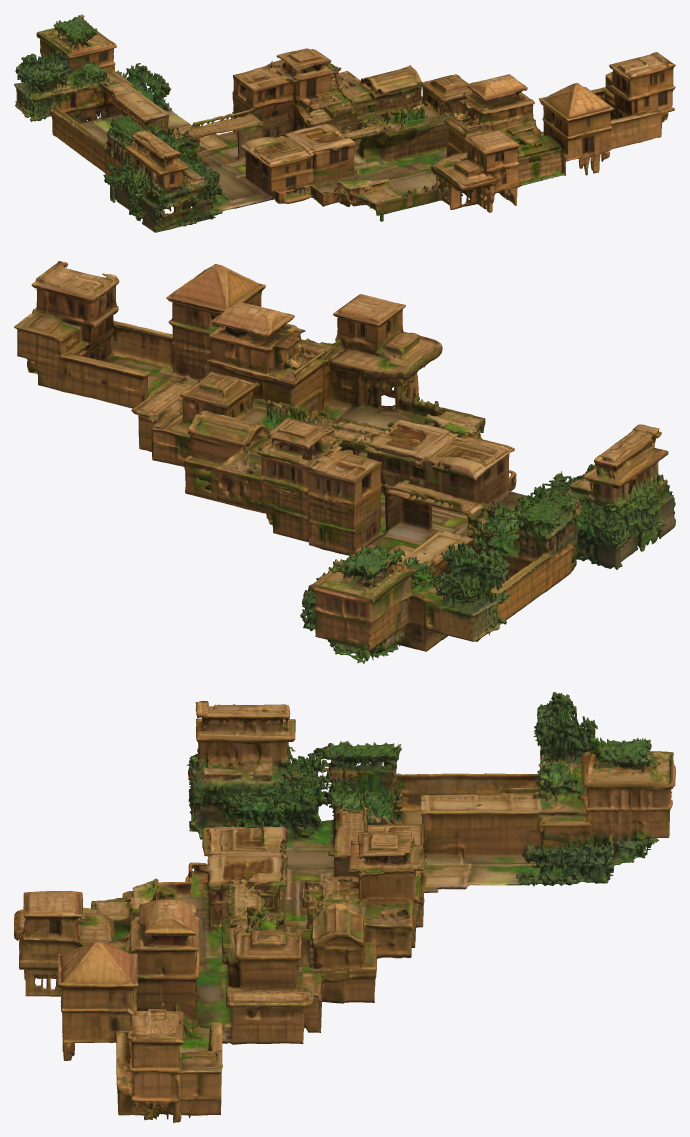
Rendered from Ancient_Terrace_Villa.glb.
3 renders of one model, top to bottom at view 1: azimuth 30°, elevation 25°; view 2: azimuth 150°, elevation 25°; view 3: azimuth 270°, elevation 25°, orthographic. The views are drawn at different scales.
Bounding box in the file's own units: 1.99 × 0.341 × 1.66.
1 material, 1 textured.
